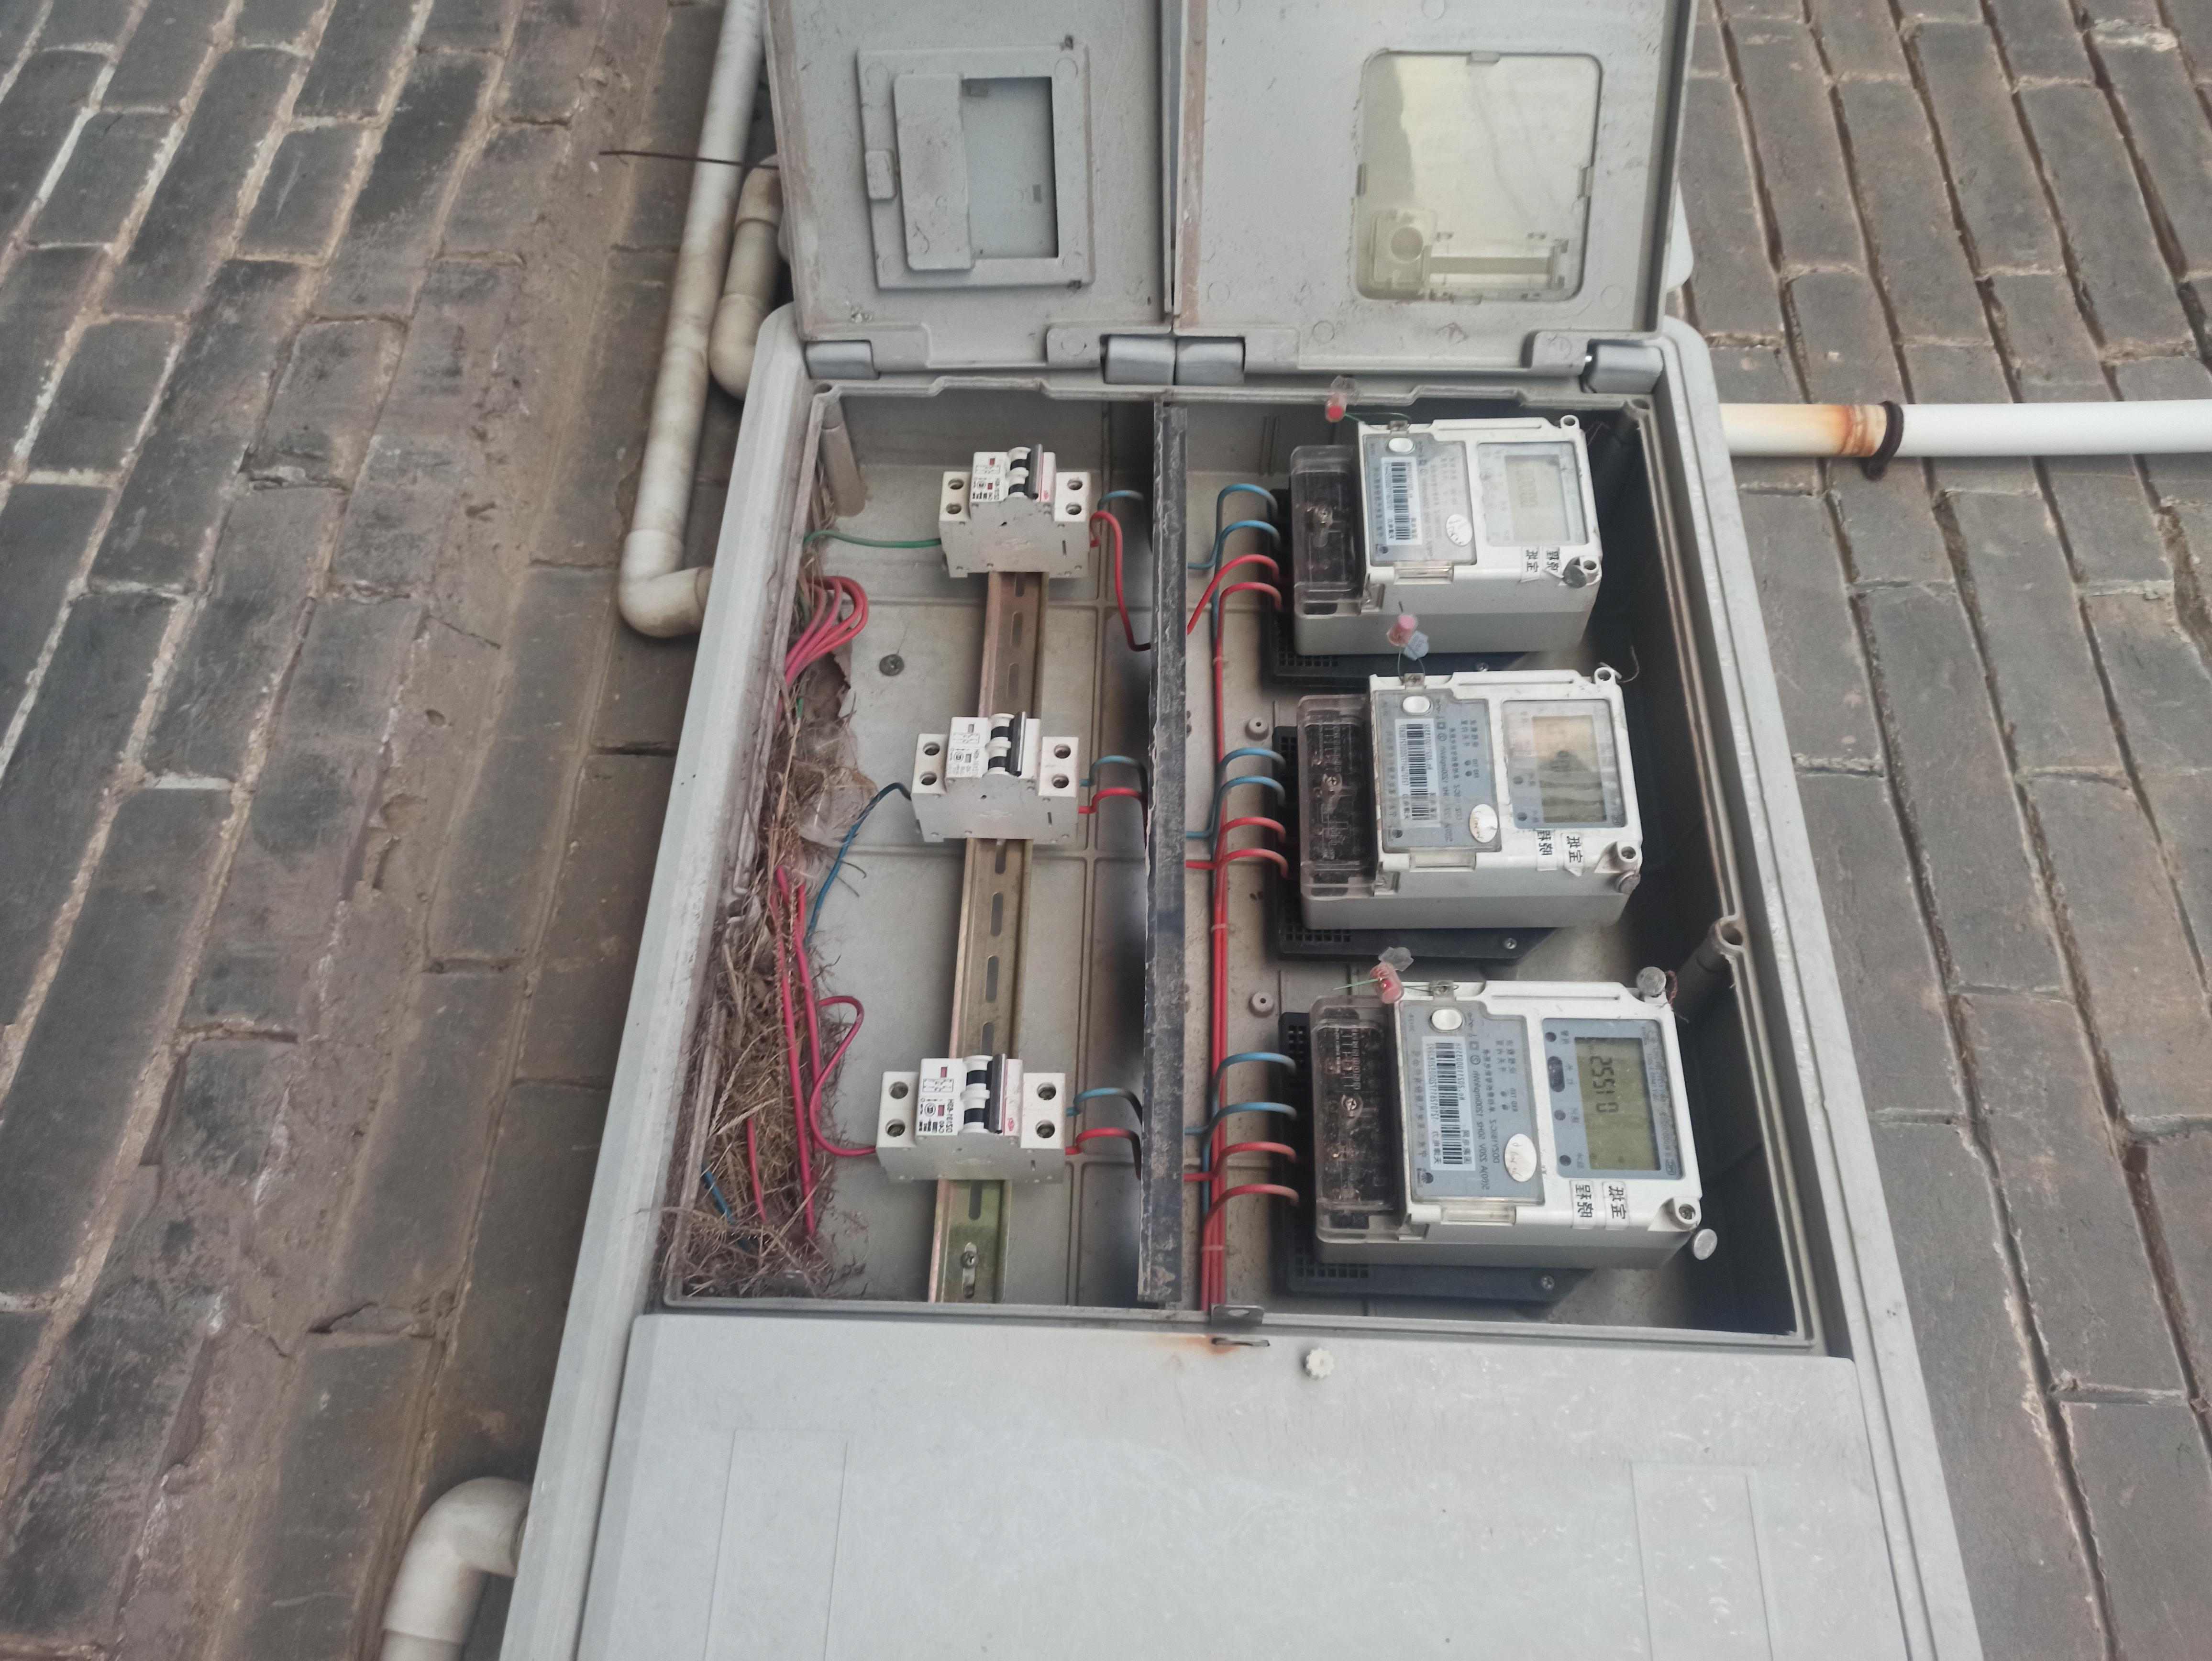digital: (1394, 981, 1701, 1221), (1369, 675, 1640, 872), (1354, 422, 1596, 576)
